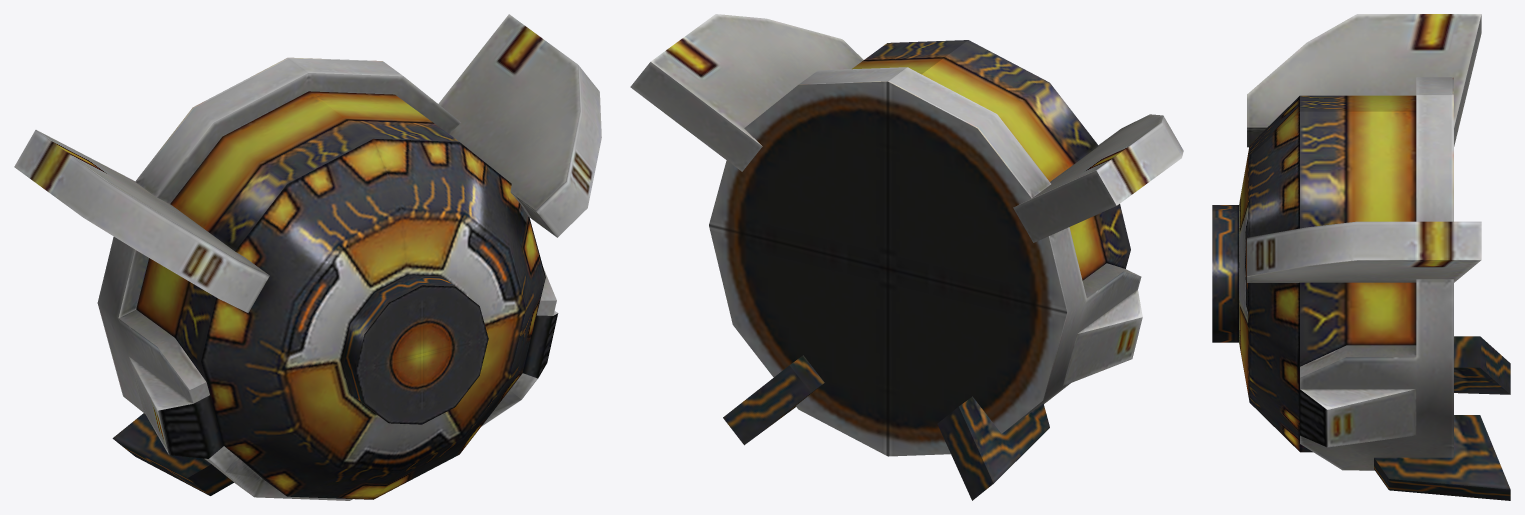
Rendered from ArmorBag_14.obj.
3 views of the same model, side by side, from view 1: azimuth 30°, elevation 25°; view 2: azimuth 150°, elevation 25°; view 3: azimuth 270°, elevation 25° (orthographic). The views are drawn at different scales.
Visible parts, largest first — view 1: ArmorBag_14_00_Bag; view 2: ArmorBag_14_00_Bag; view 3: ArmorBag_14_00_Bag.
Part boxes in pixels (left/top/right/bottom): ArmorBag_14_00_Bag: left=14, top=14, right=601, bottom=500; ArmorBag_14_00_Bag: left=630, top=14, right=1183, bottom=500; ArmorBag_14_00_Bag: left=1212, top=14, right=1510, bottom=500.
Size of the model in its own units: 0.7086 by 0.5218 by 0.3942.
Materials: 1 (1 with a texture image).
